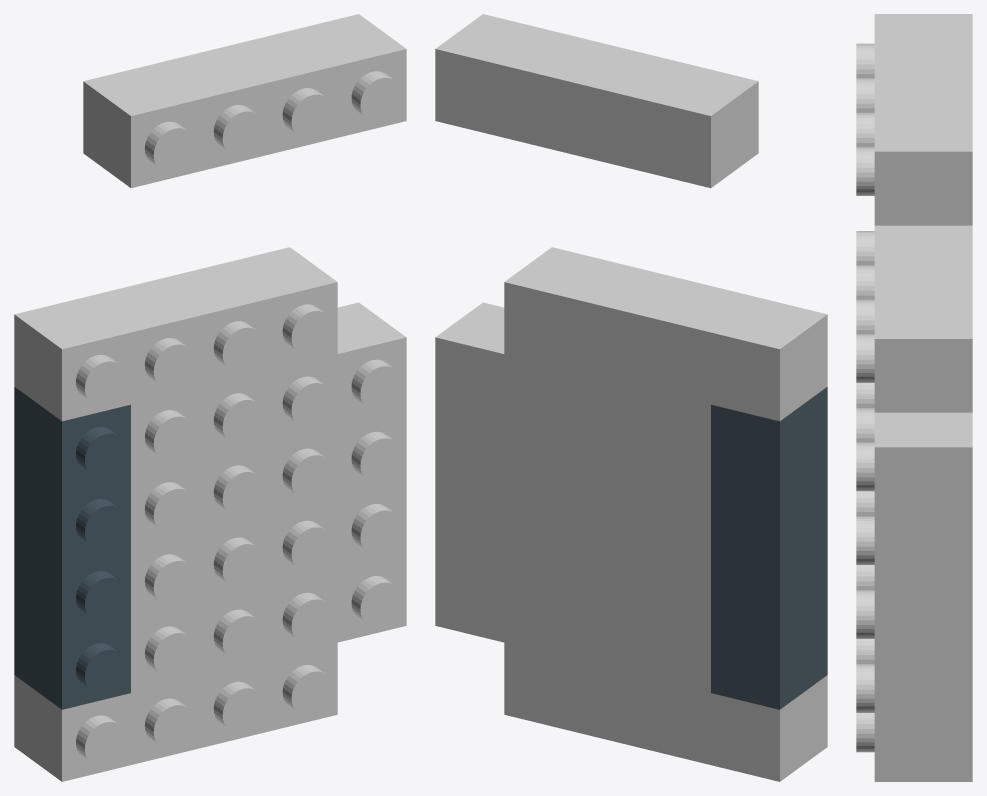
File: current.glb
3 renders of one model, left to right at view 1: azimuth 30°, elevation 25°; view 2: azimuth 150°, elevation 25°; view 3: azimuth 270°, elevation 25°, orthographic. The views are drawn at different scales.
Parts seen in each view (by area): view 1: world; view 2: world; view 3: world.
Boxes of the visible parts, bbox=[...] form: world: bbox=[14, 14, 406, 781]; world: bbox=[435, 14, 827, 781]; world: bbox=[856, 14, 972, 781].
Bounding box in the file's own units: 40 × 72 × 11.4.
